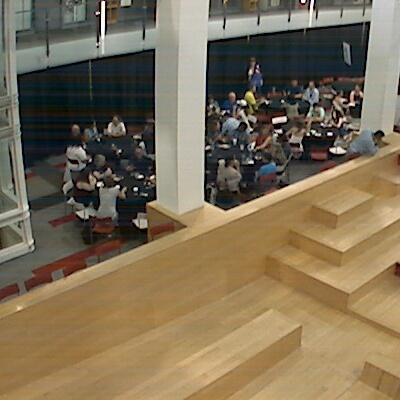head: (99, 174, 118, 187), (92, 153, 107, 169), (132, 145, 146, 161), (222, 154, 237, 168), (328, 107, 341, 123), (372, 127, 385, 143), (259, 152, 274, 165), (294, 118, 306, 130), (261, 124, 272, 137), (227, 91, 238, 104), (310, 103, 322, 113), (237, 122, 248, 132), (306, 80, 316, 91), (70, 124, 81, 134), (86, 118, 97, 128), (248, 56, 258, 66), (111, 115, 120, 126), (335, 88, 344, 98), (353, 84, 361, 92)
